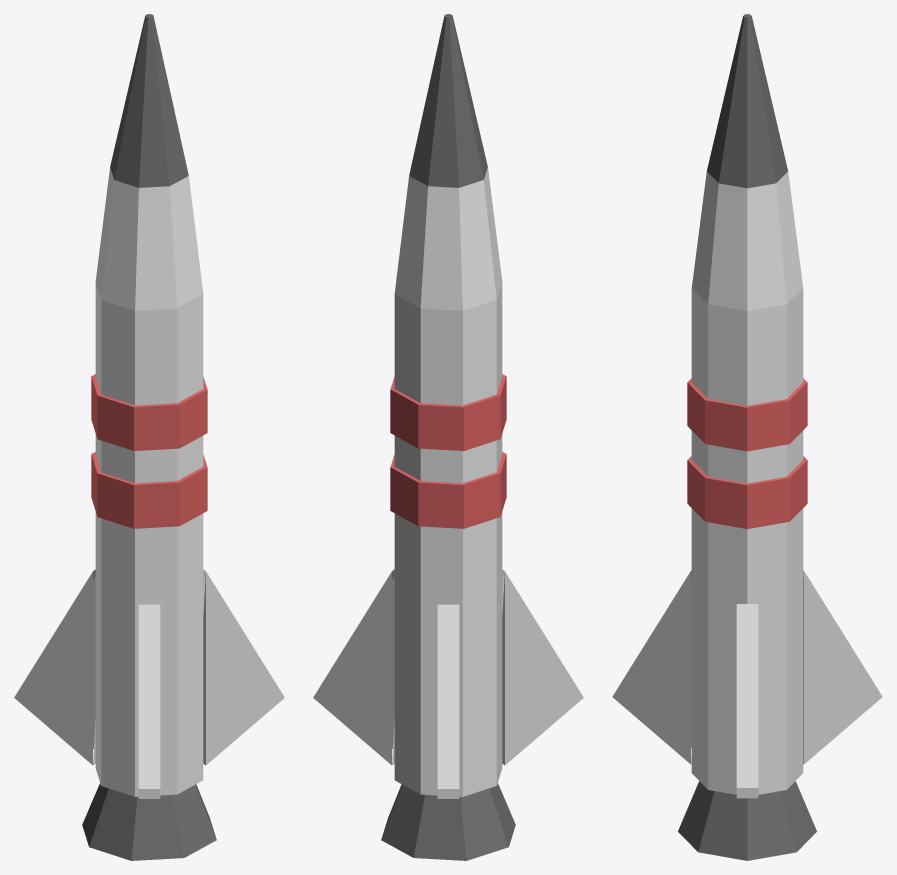
Rendered from unit_nuke.glb.
The picture shows the model from 3 angles, left to right: view 1: azimuth 30°, elevation 25°; view 2: azimuth 150°, elevation 25°; view 3: azimuth 270°, elevation 25°; orthographic projection.
Visible parts, largest first — view 1: unit_nuke; view 2: unit_nuke; view 3: unit_nuke.
Part boxes in pixels (left/top/right/bottom): unit_nuke: left=14, top=14, right=284, bottom=860; unit_nuke: left=313, top=14, right=583, bottom=860; unit_nuke: left=612, top=14, right=882, bottom=860.
Size of the model in its own units: 0.2187 by 0.84 by 0.2525.
